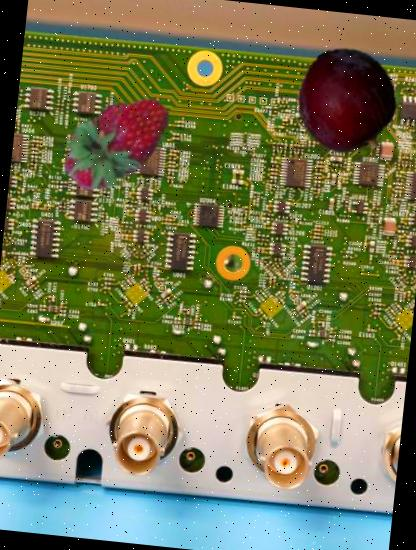Plum: (288, 42, 406, 161)
Strawberry: (49, 74, 180, 205)
